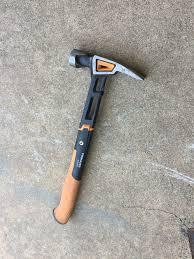hammer: (48, 46, 146, 225)
